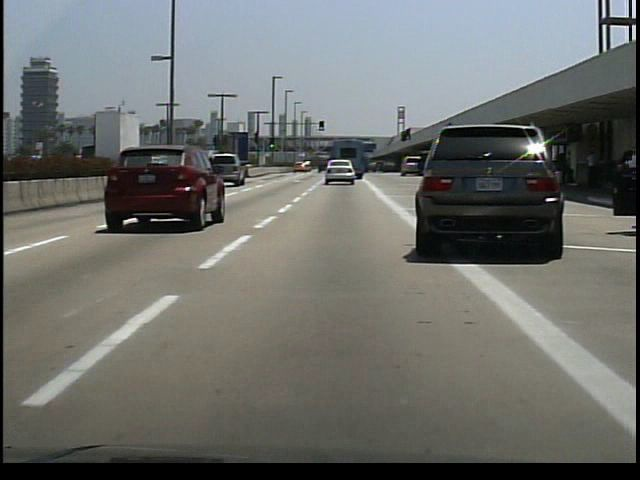person: (616, 129, 638, 229)
